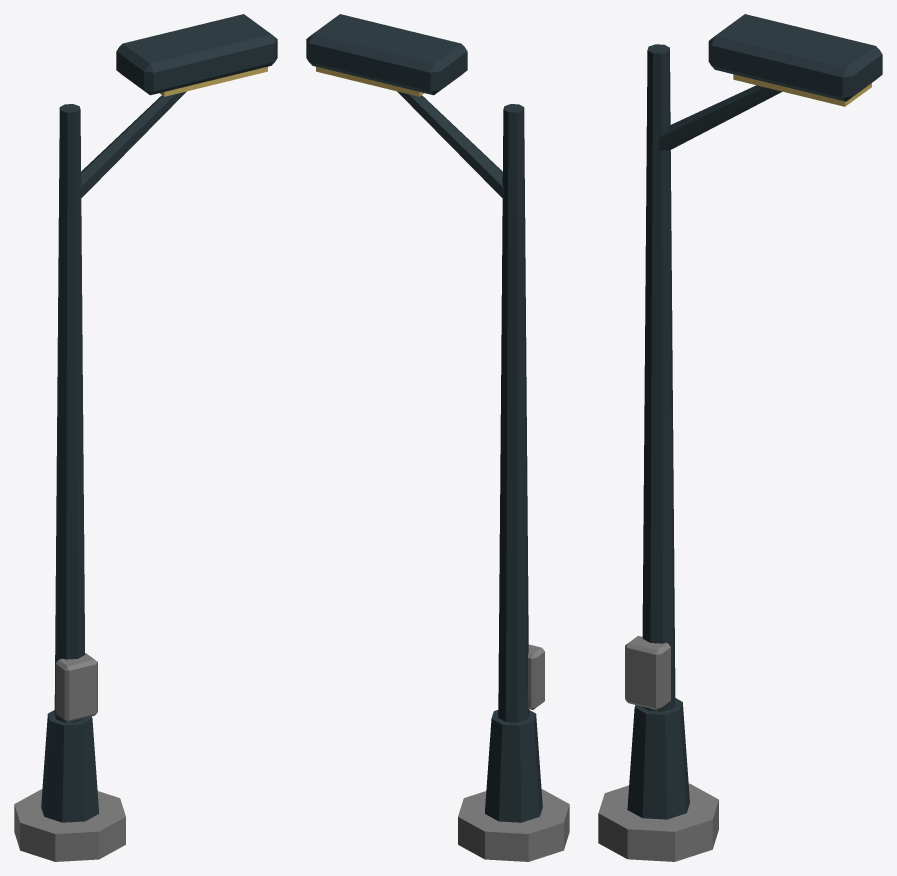
The model's file is streetlight.glb.
3 views of the same model, side by side, from view 1: azimuth 30°, elevation 25°; view 2: azimuth 150°, elevation 25°; view 3: azimuth 330°, elevation 25° (orthographic). The views are drawn at different scales.
Parts seen in each view (by area): view 1: streetlight; view 2: streetlight; view 3: streetlight.
Boxes of the visible parts, left/top/right/bottom form: streetlight: left=14, top=14, right=277, bottom=861; streetlight: left=306, top=14, right=569, bottom=861; streetlight: left=598, top=14, right=882, bottom=861.
Bounding box in the file's own units: 0.73 × 2.2 × 0.3.
